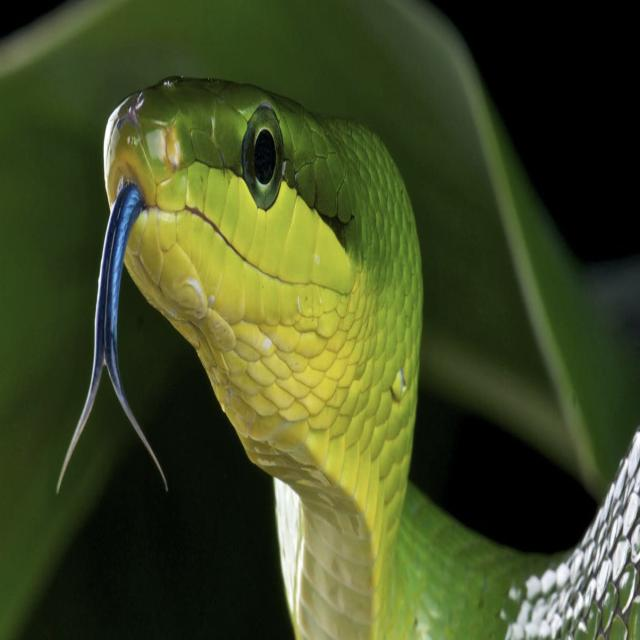snake: (58, 78, 640, 639)
